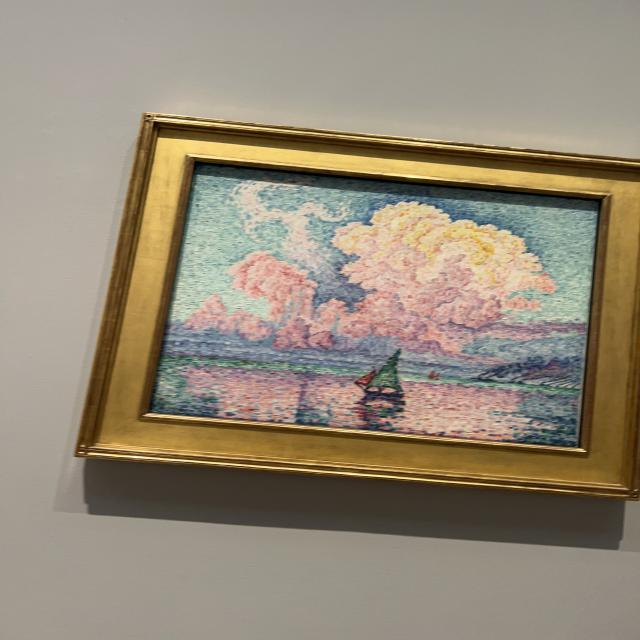sunrise: (152, 168, 594, 445)
